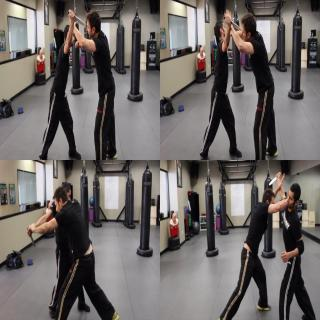knife: (223, 13, 242, 33), (67, 8, 85, 26), (267, 170, 281, 186), (26, 226, 36, 248)
